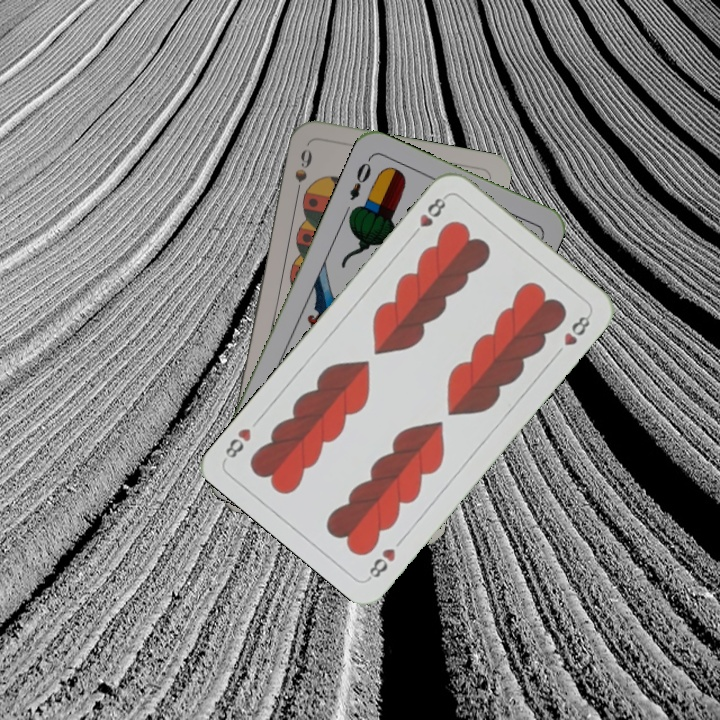EO: (345, 154, 374, 203)
H8: (407, 191, 450, 241), (364, 544, 399, 582)
S9: (291, 145, 315, 202)
